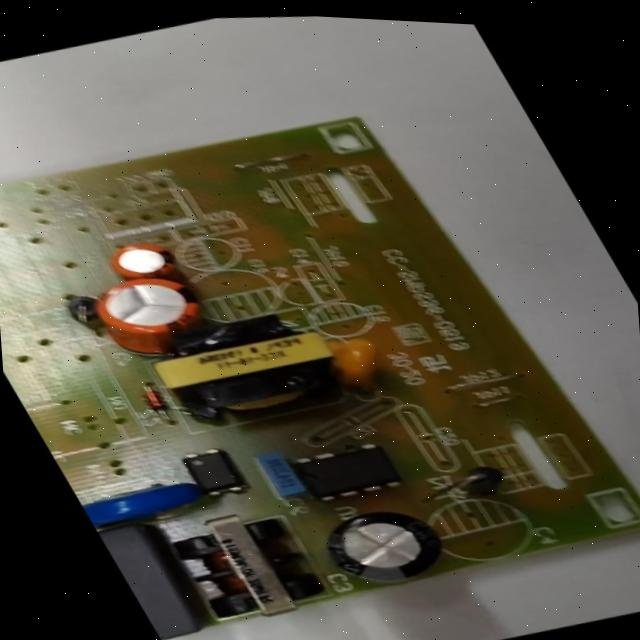Cap1: (80, 263, 220, 367)
Cap2: (100, 234, 182, 288)
Cap3: (314, 496, 455, 600)
MOSFET: (290, 435, 401, 509)
Mov: (80, 474, 208, 534)
Transformer: (136, 294, 359, 445), (158, 500, 324, 638)
